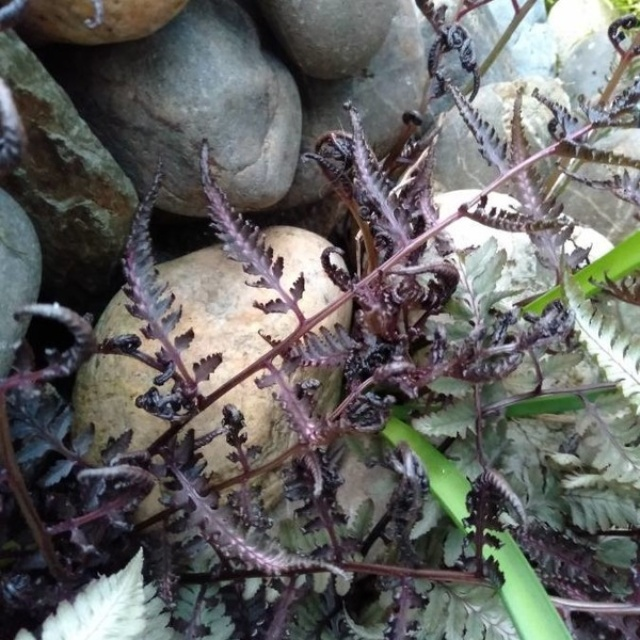obstacle: (75, 122, 604, 555)
